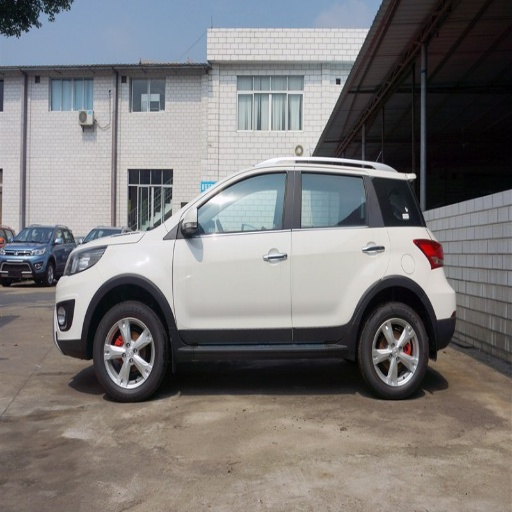back_left_door: (293, 166, 388, 343)
front_left_door: (173, 166, 294, 344)
